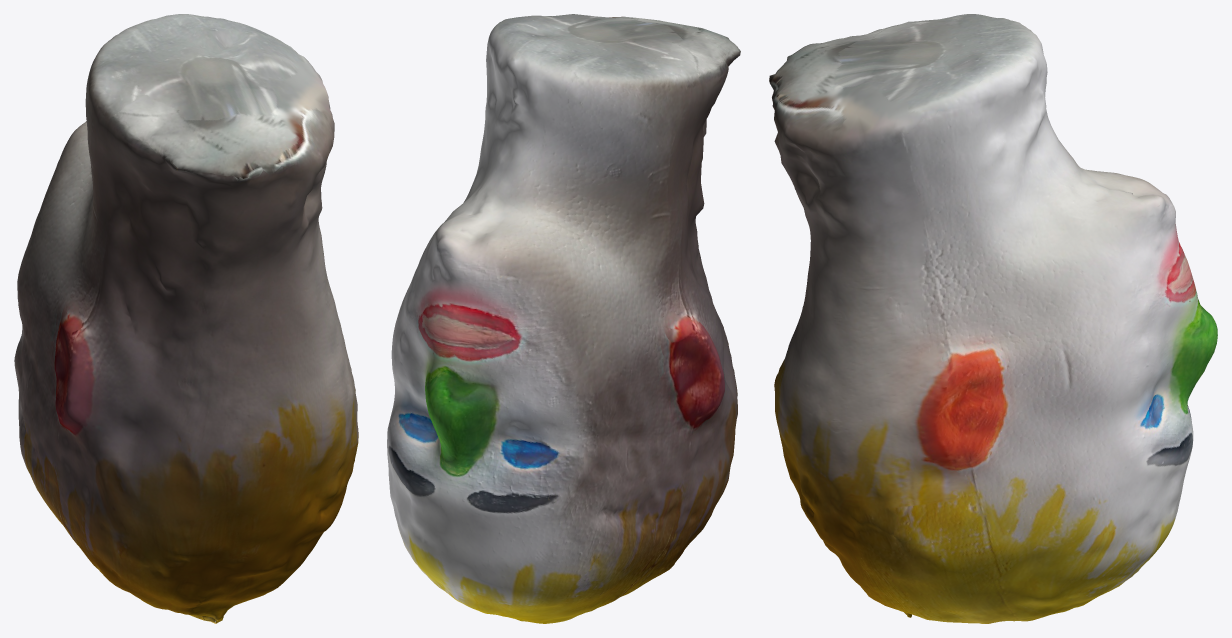
The picture shows the model from 3 angles, left to right: view 1: azimuth 30°, elevation 25°; view 2: azimuth 150°, elevation 25°; view 3: azimuth 270°, elevation 25°; orthographic projection. The views are drawn at different scales.
Parts seen in each view (by area): view 1: mesh; view 2: mesh; view 3: mesh.
Part boxes in pixels (<box>): mesh: <box>14,14,358,623</box>; mesh: <box>387,14,740,623</box>; mesh: <box>769,14,1217,623</box>.
Bounding box in the file's own units: 0.2607 × 0.5209 × 0.3679.
1 material, 1 textured.
